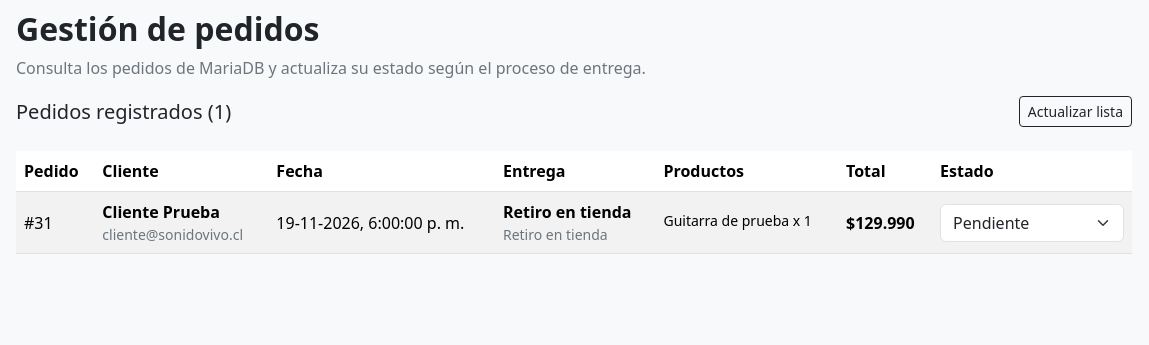
Test: Gestion administrativa de pedidos › actualiza el estado de un pedido mediante la API
The width and height of the screenshot is (1149, 345).
Select "En preparación" in the dropdown named "Estado del pedido 31" at (1032,223), box [940, 204, 1124, 242]
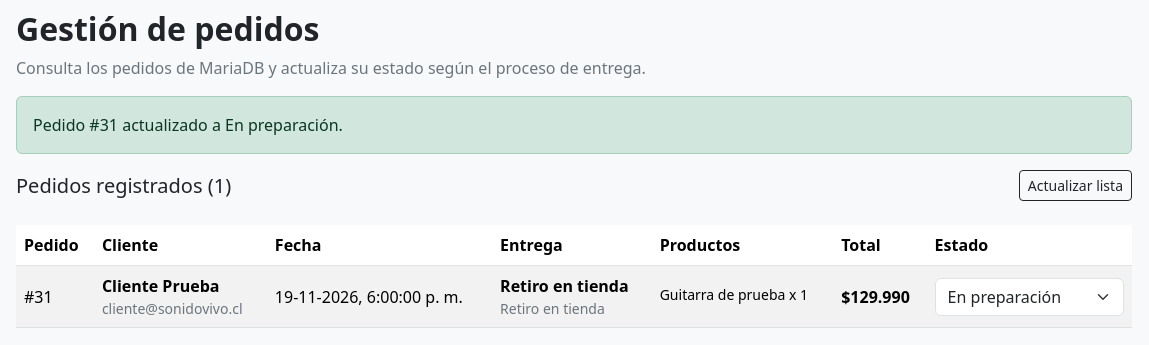
Expected: the text "Pedido #31 actualizado a En preparación." is shown, [16, 96, 1132, 154]
